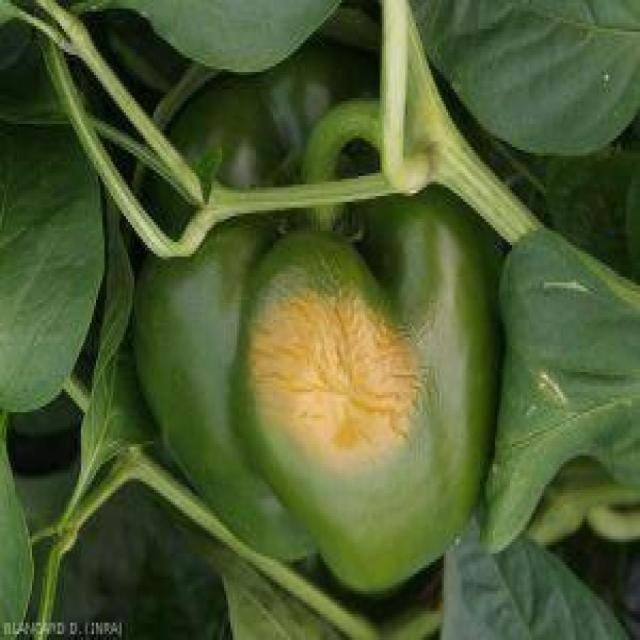Sunscald Fruit: (156, 171, 290, 319)
